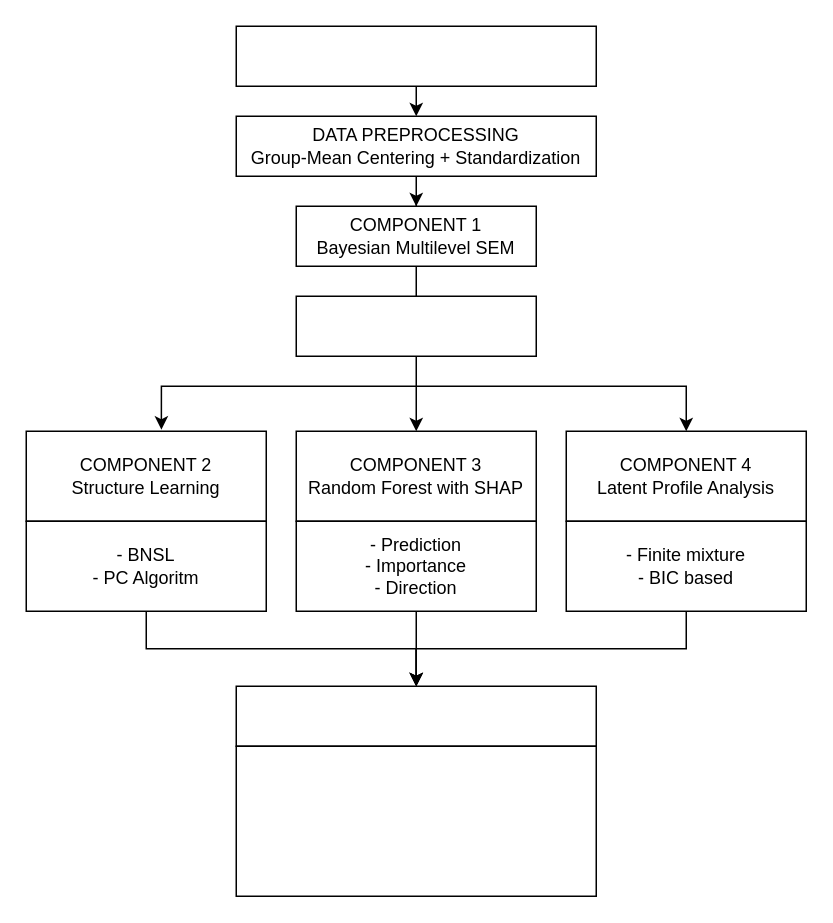
Image size: 833x923. Some labels were removed from this diagram. The shapes that lost their labels are listed below. From the top down, each one's centre as x and y in pixels, then its label:
At (415,55): "INPUT DATA (514 District, 38 Provinces)".
At (415,325): "FACTOR SCORES (TD, KSE, ALD)".
At (415,715): "TRIANGULATION OUTPUTS".
At (415,820): "- Convergence - Divergence - Null Findings - Policy Segmentation".
